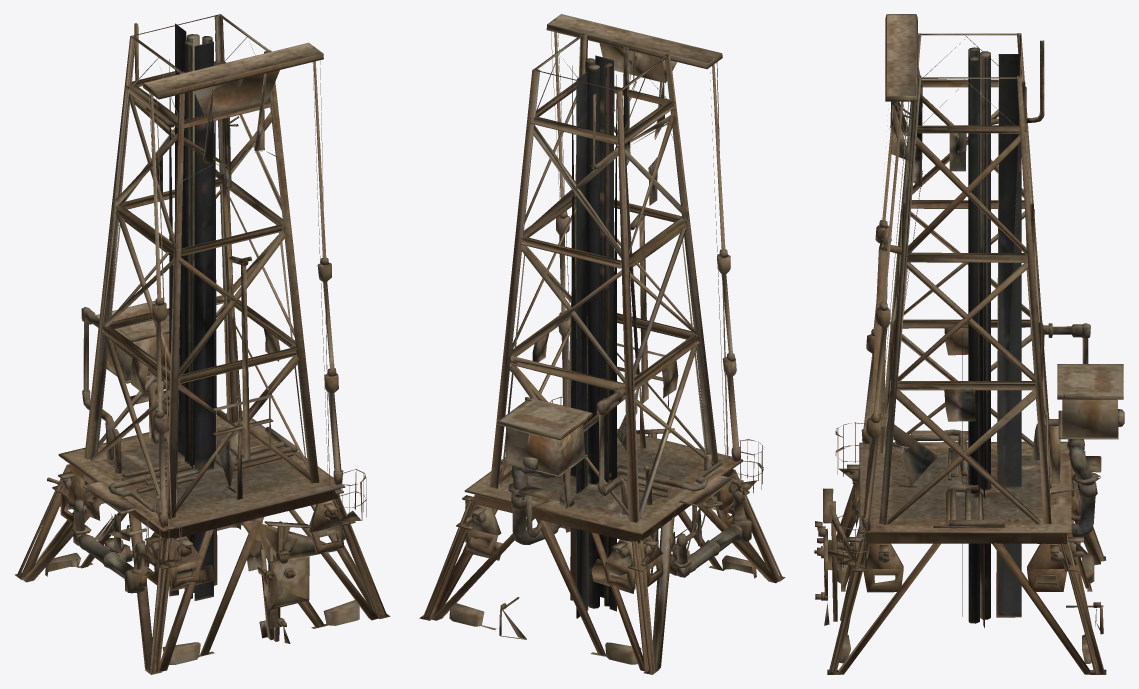
Rendered from l_derrick.glb.
The picture shows the model from 3 angles, left to right: view 1: azimuth 30°, elevation 25°; view 2: azimuth 150°, elevation 25°; view 3: azimuth 270°, elevation 25°; orthographic projection. The views are drawn at different scales.
Bounding box in the file's own units: 0.4302 × 0.9536 × 0.4756.
Materials: 1 (1 with a texture image).
